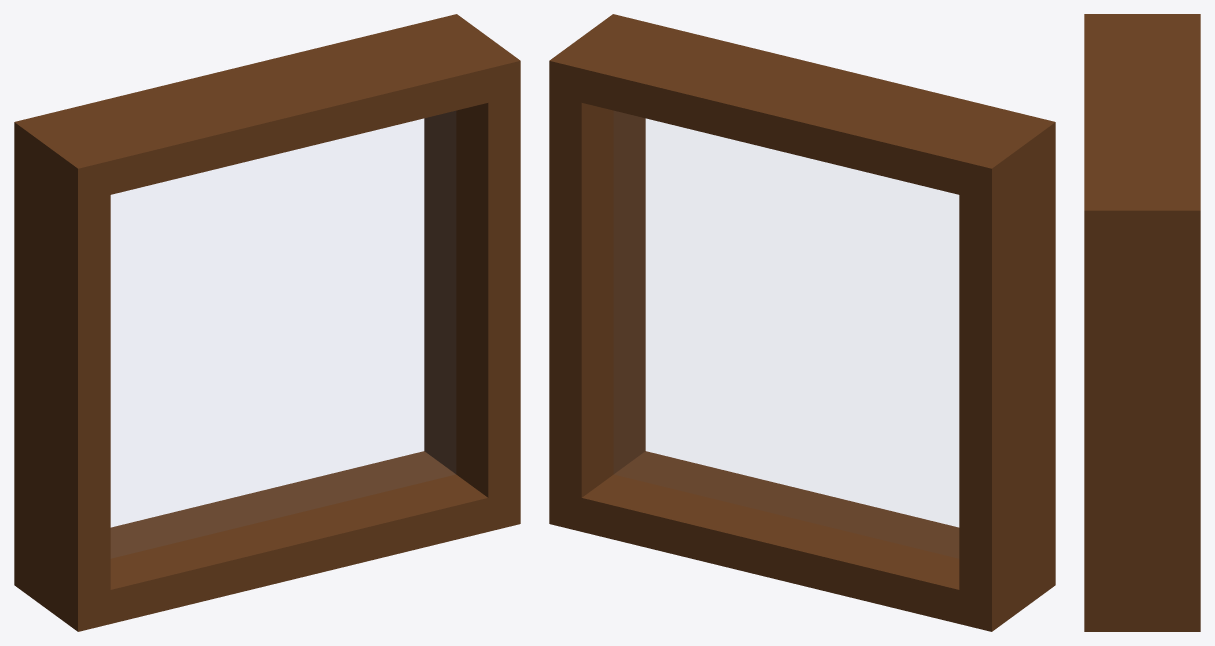
File: obj_rewards_window.fbx
3 renders of one model, left to right at view 1: azimuth 30°, elevation 25°; view 2: azimuth 150°, elevation 25°; view 3: azimuth 270°, elevation 25°, orthographic. The views are drawn at different scales.
Parts seen in each view (by area): view 1: window1_lp.001; view 2: window1_lp.001; view 3: window1_lp.001.
Part boxes in pixels (x1=…): window1_lp.001: x1=14, y1=14, x2=520, y2=631; window1_lp.001: x1=549, y1=14, x2=1055, y2=631; window1_lp.001: x1=1084, y1=14, x2=1200, y2=631.
Bounding box in the file's own units: 2 × 2 × 0.5.
